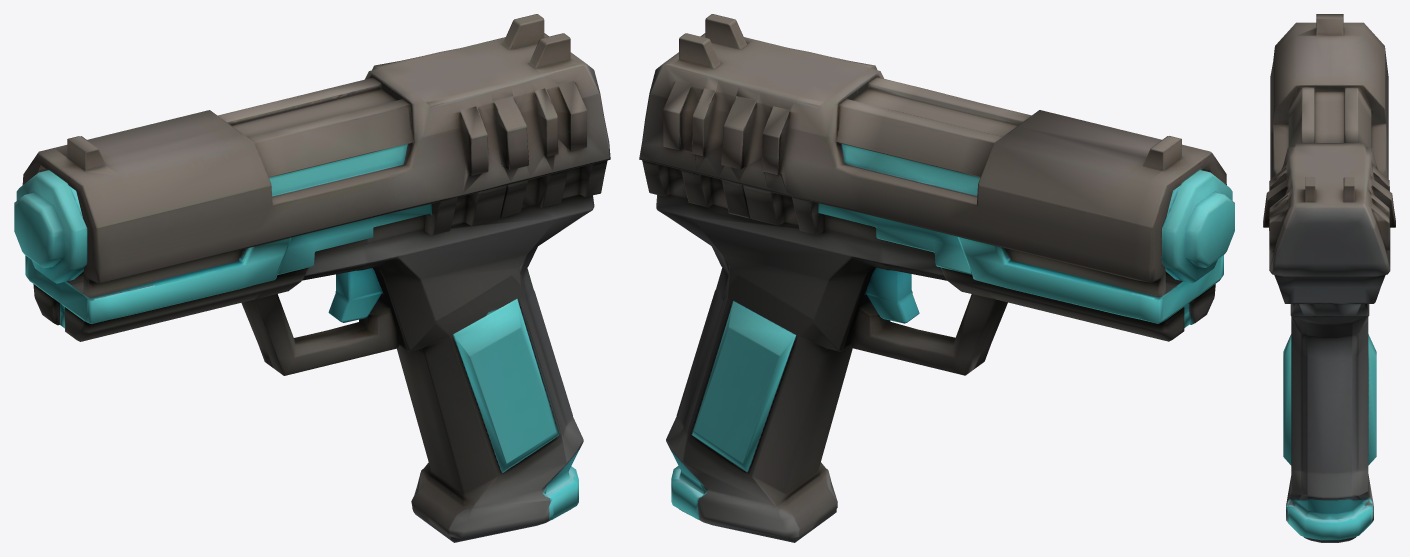
3 renders of one model, left to right at view 1: azimuth 30°, elevation 25°; view 2: azimuth 150°, elevation 25°; view 3: azimuth 270°, elevation 25°, orthographic. The views are drawn at different scales.
Visible parts, largest first — view 1: tripo_node_b6b37035-6cb2-4c7a-98fa-71c4c5406dac; view 2: tripo_node_b6b37035-6cb2-4c7a-98fa-71c4c5406dac; view 3: tripo_node_b6b37035-6cb2-4c7a-98fa-71c4c5406dac.
Boxes of the visible parts, left/top/right/bottom form: tripo_node_b6b37035-6cb2-4c7a-98fa-71c4c5406dac: left=14, top=14, right=610, bottom=542; tripo_node_b6b37035-6cb2-4c7a-98fa-71c4c5406dac: left=639, top=14, right=1234, bottom=542; tripo_node_b6b37035-6cb2-4c7a-98fa-71c4c5406dac: left=1263, top=14, right=1395, bottom=542.
Size of the model in its own units: 0.998 by 0.834 by 0.2832.
Materials: 1 (1 with a texture image).
